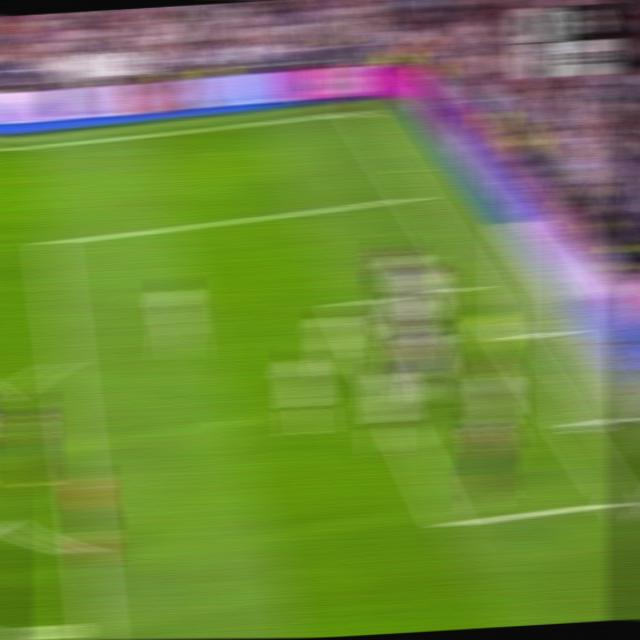bigarea_bottom_inner: (434, 507, 464, 538)
bigarea_top_outter: (401, 186, 428, 204)
corner: (345, 104, 372, 119)
smallarea_bottom_outter: (605, 486, 635, 516)
smallarea_top_inner: (35, 232, 65, 256)
smallarea_top_outter: (461, 274, 487, 296)
